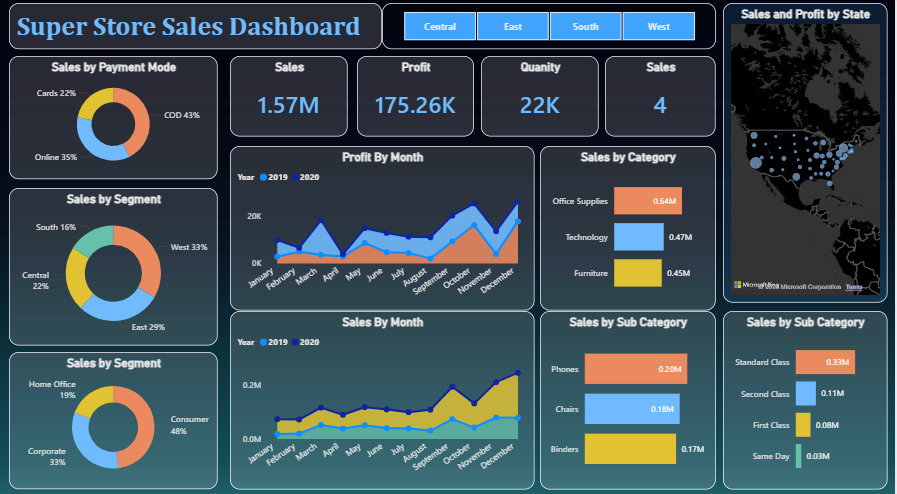

The dashboard page shown, as its layout file describes it:
{"tool":"powerbi","page":{"name":"Dashborad","canvas":[1280,720],"ordinal":0},"visuals":[{"type":"clusteredBarChart","title":"Sales by Category","fields":{"Category":["SuperStore_Sales_Dataset.Category"],"Y":["Sum(SuperStore_Sales_Dataset.Sales)"]},"box":[773.3,216,250.6,234.7],"z":0},{"type":"donutChart","title":"Sales by Segment","fields":{"Category":["SuperStore_Sales_Dataset.Segment"],"Y":["Sum(SuperStore_Sales_Dataset.Sales)"]},"box":[14.4,509.8,298.1,195.8],"z":1000},{"type":"donutChart","title":"Sales by Payment Mode","fields":{"Category":["SuperStore_Sales_Dataset.Payment Mode"],"Y":["Sum(SuperStore_Sales_Dataset.Sales)"]},"box":[14.4,87.8,298.1,175.7],"z":2000},{"type":"slicer","fields":{"Values":["SuperStore_Sales_Dataset.Region"]},"box":[547.2,11.5,476.6,66.2],"z":3000},{"type":"textbox","box":[14.3,11.4,497.1,65.7],"z":4000},{"type":"clusteredBarChart","title":"Sales by Sub Category","fields":{"Category":["SuperStore_Sales_Dataset.Sub-Category"],"Y":["Sum(SuperStore_Sales_Dataset.Sales)"]},"box":[773.3,450.7,250.6,254.9],"z":5000},{"type":"clusteredBarChart","title":"Sales by Sub Category","fields":{"Category":["SuperStore_Sales_Dataset.Ship Mode"],"Y":["Sum(SuperStore_Sales_Dataset.Sales)"]},"box":[1033.9,450.7,234.7,254.9],"z":6000},{"type":"stackedAreaChart","title":"Sales By Month","fields":{"Y":["Sum(SuperStore_Sales_Dataset.Sales)"],"Category":["SuperStore_Sales_Dataset.Order Date.Variation.Date Hierarchy.Month","SuperStore_Sales_Dataset.Order Date.Variation.Date Hierarchy.Day"],"Series":["SuperStore_Sales_Dataset.Order Date.Variation.Date Hierarchy.Year"]},"box":[329.8,450.7,434.9,254.9],"z":7000},{"type":"stackedAreaChart","title":"Profit By Month","fields":{"Category":["SuperStore_Sales_Dataset.Order Date.Variation.Date Hierarchy.Month","SuperStore_Sales_Dataset.Order Date.Variation.Date Hierarchy.Day"],"Series":["SuperStore_Sales_Dataset.Order Date.Variation.Date Hierarchy.Year"],"Y":["Sum(SuperStore_Sales_Dataset.Profit)"]},"box":[329.8,216,434.9,234.7],"z":8000},{"type":"donutChart","title":"Sales by Segment","fields":{"Y":["Sum(SuperStore_Sales_Dataset.Sales)"],"Category":["SuperStore_Sales_Dataset.Region"]},"box":[14.4,275,298.1,224.6],"z":9000},{"type":"map","title":"Sales and Profit by State","fields":{"Category":["SuperStore_Sales_Dataset.State"],"Size":["Sum(SuperStore_Sales_Dataset.Sales)"]},"box":[1033.9,11.5,234.7,427.7],"z":10000},{"type":"cardVisual","title":"Sales","fields":{"Data":["Sum(SuperStore_Sales_Dataset.Sales)"]},"box":[329.8,87.8,168.5,115.2],"z":11000},{"type":"cardVisual","title":"Profit","fields":{"Data":["Sum(SuperStore_Sales_Dataset.Profit)"]},"box":[511.2,87.8,167,115.2],"z":12000},{"type":"cardVisual","title":"Quanity","fields":{"Data":["Sum(SuperStore_Sales_Dataset.Quantity)"]},"box":[688.3,87.8,168.5,115.2],"z":13000},{"type":"cardVisual","title":"Sales","fields":{"Data":["Avg(SuperStore_Sales_Dataset.AvgDelivery)"]},"box":[865.4,87.8,158.4,115.2],"z":14000}]}

Visuals, with their boxes in screenshot pixels (x1, y1, x2, y2), scaled from the page's 1280x720 canvas onto the 897x494 screenshot:
"Sales by Category" clusteredBarChart: x1=542, y1=148, x2=718, y2=309
"Sales by Segment" donutChart: x1=10, y1=350, x2=219, y2=484
"Sales by Payment Mode" donutChart: x1=10, y1=60, x2=219, y2=181
slicer - SuperStore_Sales_Dataset.Region: x1=383, y1=8, x2=717, y2=53
textbox: x1=10, y1=8, x2=358, y2=53
"Sales by Sub Category" clusteredBarChart: x1=542, y1=309, x2=718, y2=484
"Sales by Sub Category" clusteredBarChart: x1=725, y1=309, x2=889, y2=484
"Sales By Month" stackedAreaChart: x1=231, y1=309, x2=536, y2=484
"Profit By Month" stackedAreaChart: x1=231, y1=148, x2=536, y2=309
"Sales by Segment" donutChart: x1=10, y1=189, x2=219, y2=343
"Sales and Profit by State" map: x1=725, y1=8, x2=889, y2=301
"Sales" cardVisual: x1=231, y1=60, x2=349, y2=139
"Profit" cardVisual: x1=358, y1=60, x2=475, y2=139
"Quanity" cardVisual: x1=482, y1=60, x2=600, y2=139
"Sales" cardVisual: x1=606, y1=60, x2=717, y2=139
